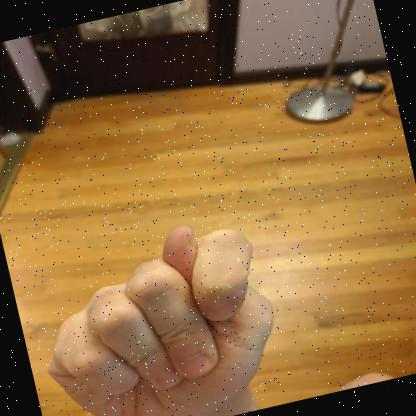T: (48, 225, 274, 416)
